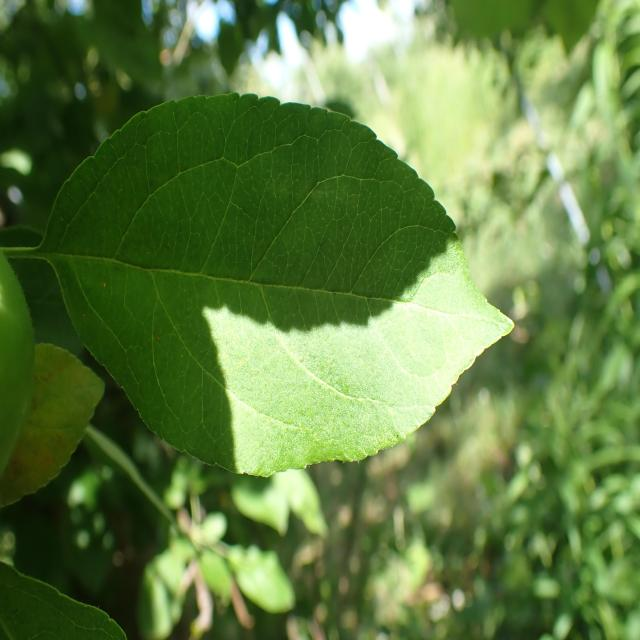healthy: (46, 90, 516, 478)
